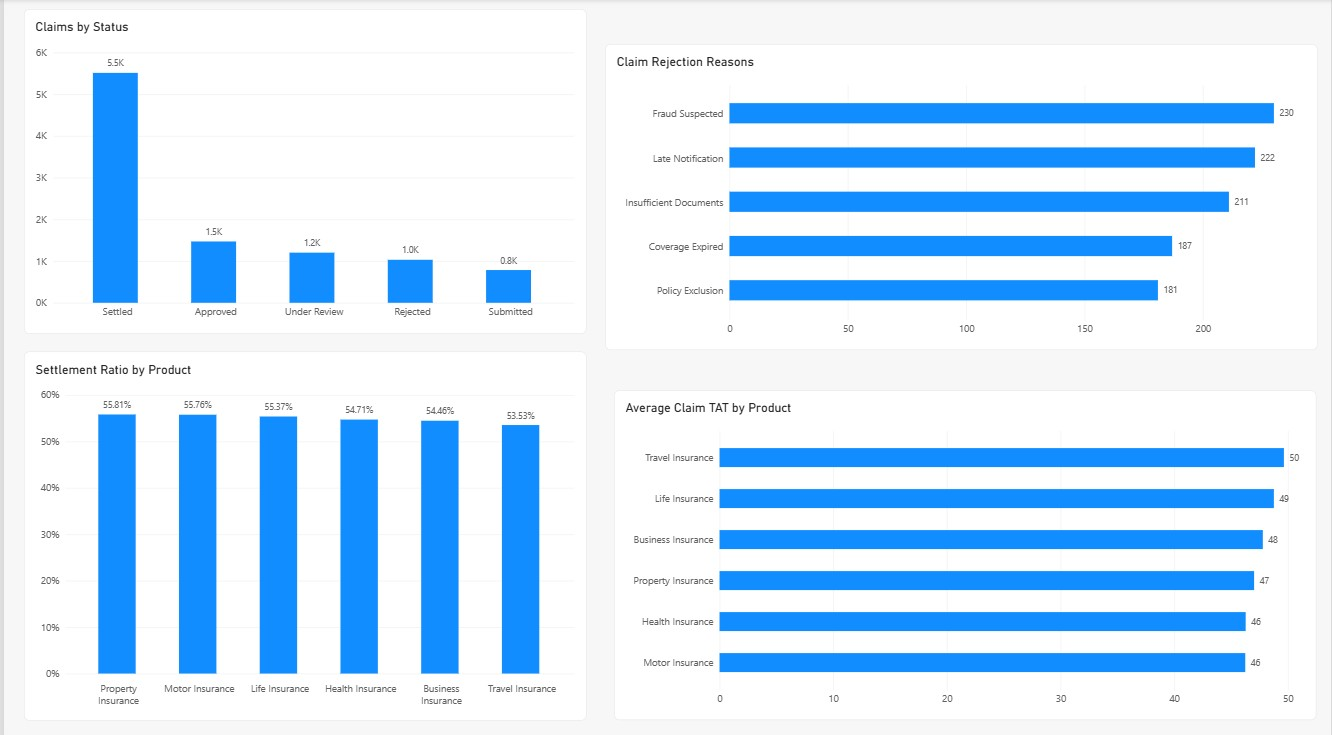

Layout of this report page (visuals, bound fields, positions):
{"tool":"powerbi","page":{"name":"Claims & Customer Risk","canvas":[1920,1080],"ordinal":2},"visuals":[{"type":"clusteredColumnChart","title":"Claims by Status","fields":{"Category":["Claims.Claim_Status"],"Y":["Measures Table.Total Claims"]},"box":[28.2,15,814.3,470.1],"z":0},{"type":"clusteredBarChart","title":"Claim Rejection Reasons","fields":{"Category":["Claims.Rejection_Reason"],"Y":["Measures Table.Total Claims"]},"box":[870.7,65.8,1031.5,443.4],"z":1},{"type":"clusteredColumnChart","title":"Settlement Ratio by Product","fields":{"Category":["Products.Product_Name"],"Y":["Measures Table.Settlement Ratio"]},"box":[28.2,509.6,814.3,534.1],"z":2},{"type":"clusteredBarChart","title":"Average Claim TAT by Product","fields":{"Category":["Products.Product_Name"],"Y":["Measures Table.Average Claim TAT"]},"box":[883.8,566,1017,477.8],"z":3}]}

Visuals, with their boxes in screenshot pixels (x1, y1, x2, y2), scaled from the page's 1920x1080 canvas onto the 1332x735 screenshot:
"Claims by Status" clusteredColumnChart: select_region(20, 10, 584, 330)
"Claim Rejection Reasons" clusteredBarChart: select_region(604, 45, 1320, 347)
"Settlement Ratio by Product" clusteredColumnChart: select_region(20, 347, 584, 710)
"Average Claim TAT by Product" clusteredBarChart: select_region(613, 385, 1319, 710)
